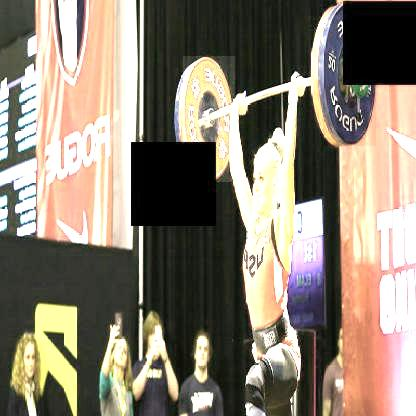barbell: (321, 3, 374, 147), (182, 57, 234, 183)
